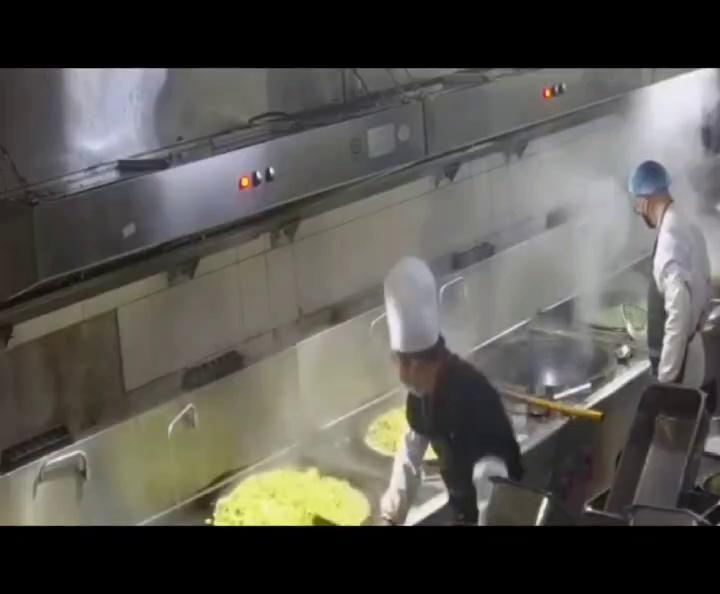gloves: (622, 155, 676, 194)
